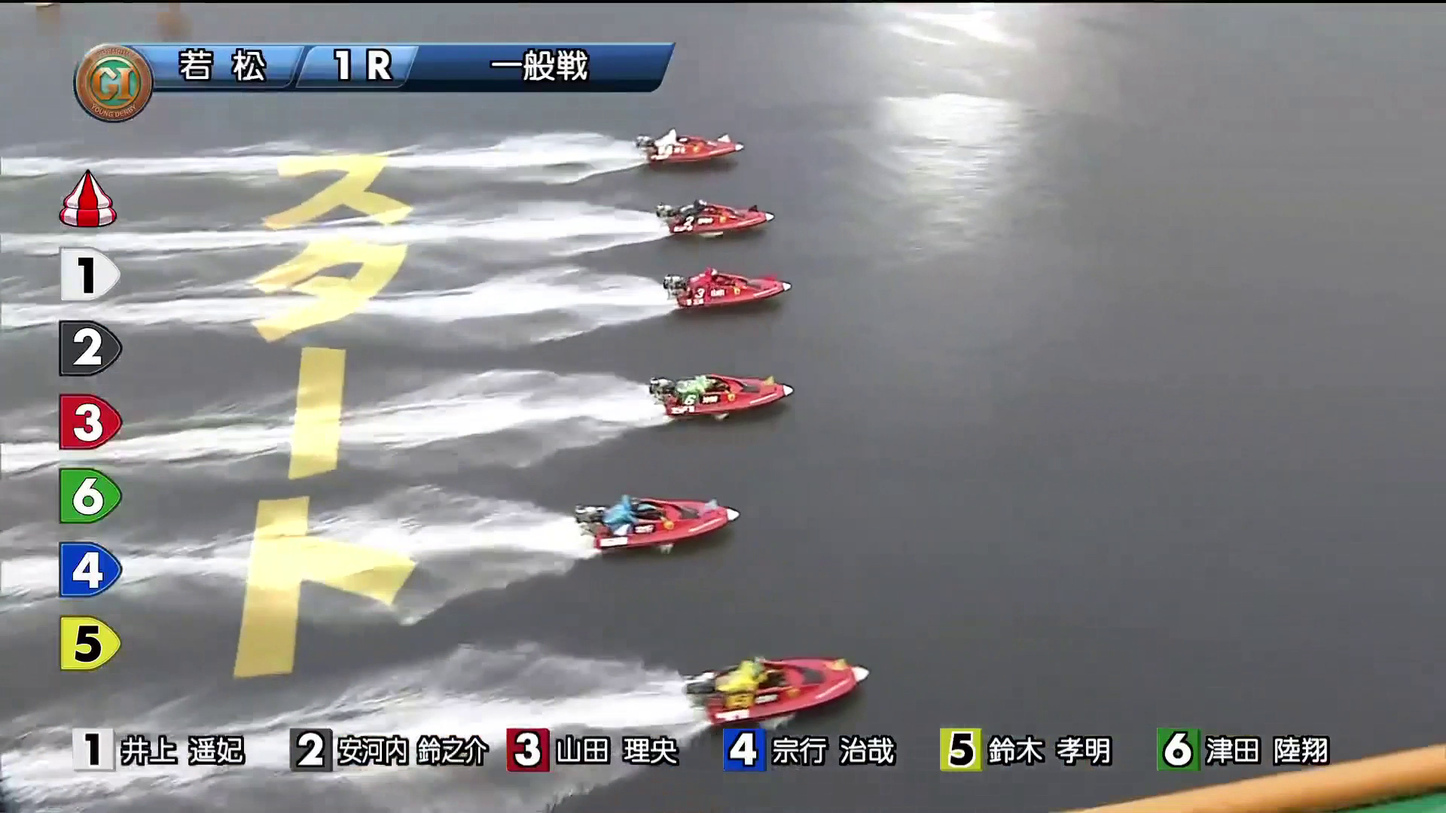１号艇: (653, 123, 724, 164)
２号艇: (665, 196, 768, 234)
３号艇: (675, 264, 800, 306)
４号艇: (678, 360, 783, 403)
５号艇: (600, 493, 720, 548)
６号艇: (693, 653, 851, 709)
